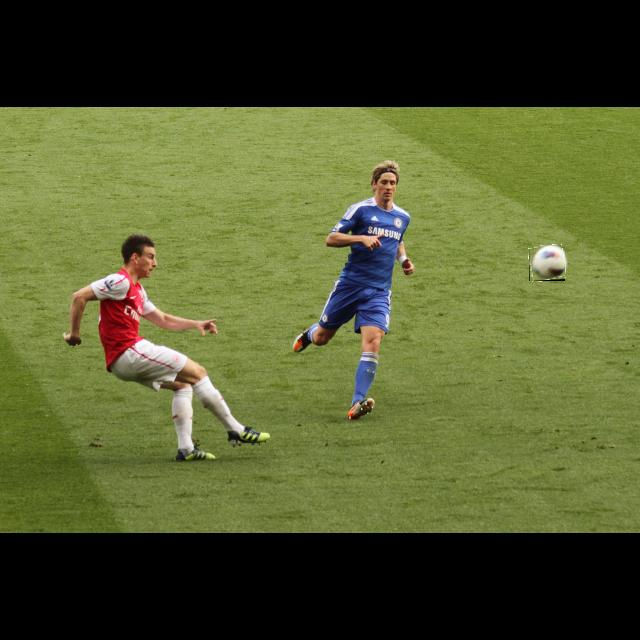Football: (529, 245, 565, 281)
